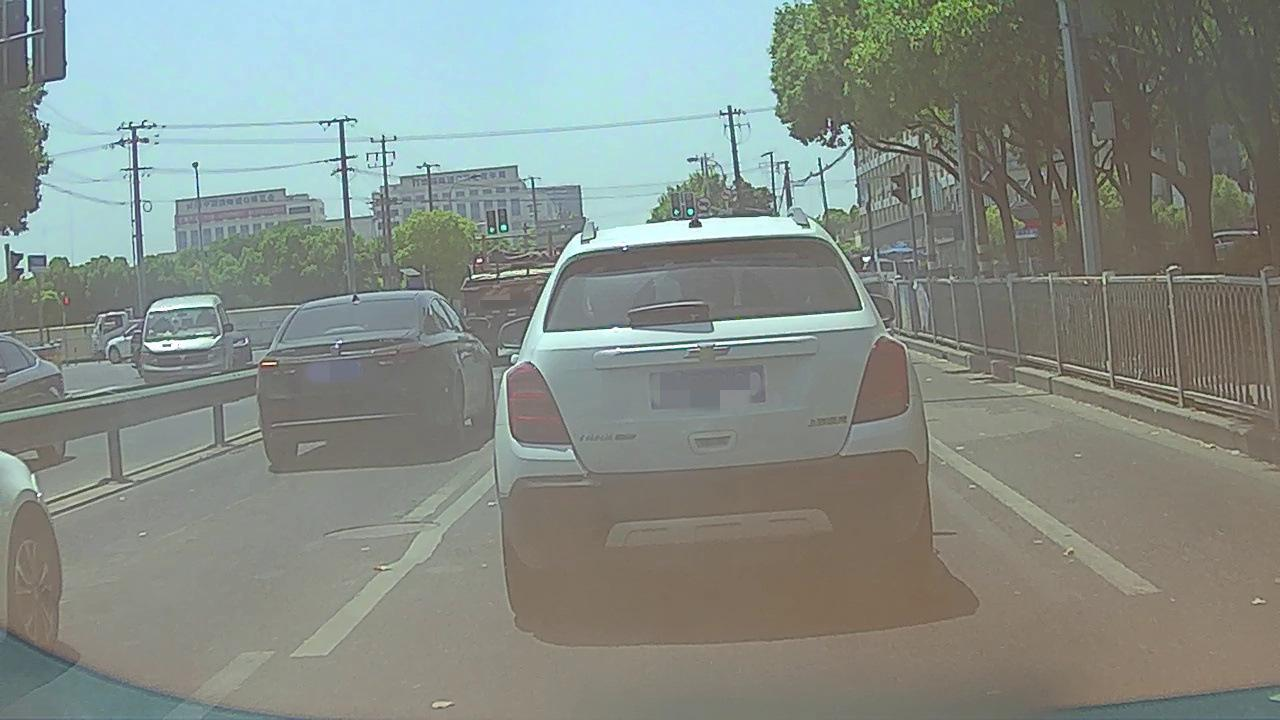traffic_light: (672, 193, 681, 217), (686, 193, 695, 217), (498, 210, 507, 232), (488, 211, 496, 233)
